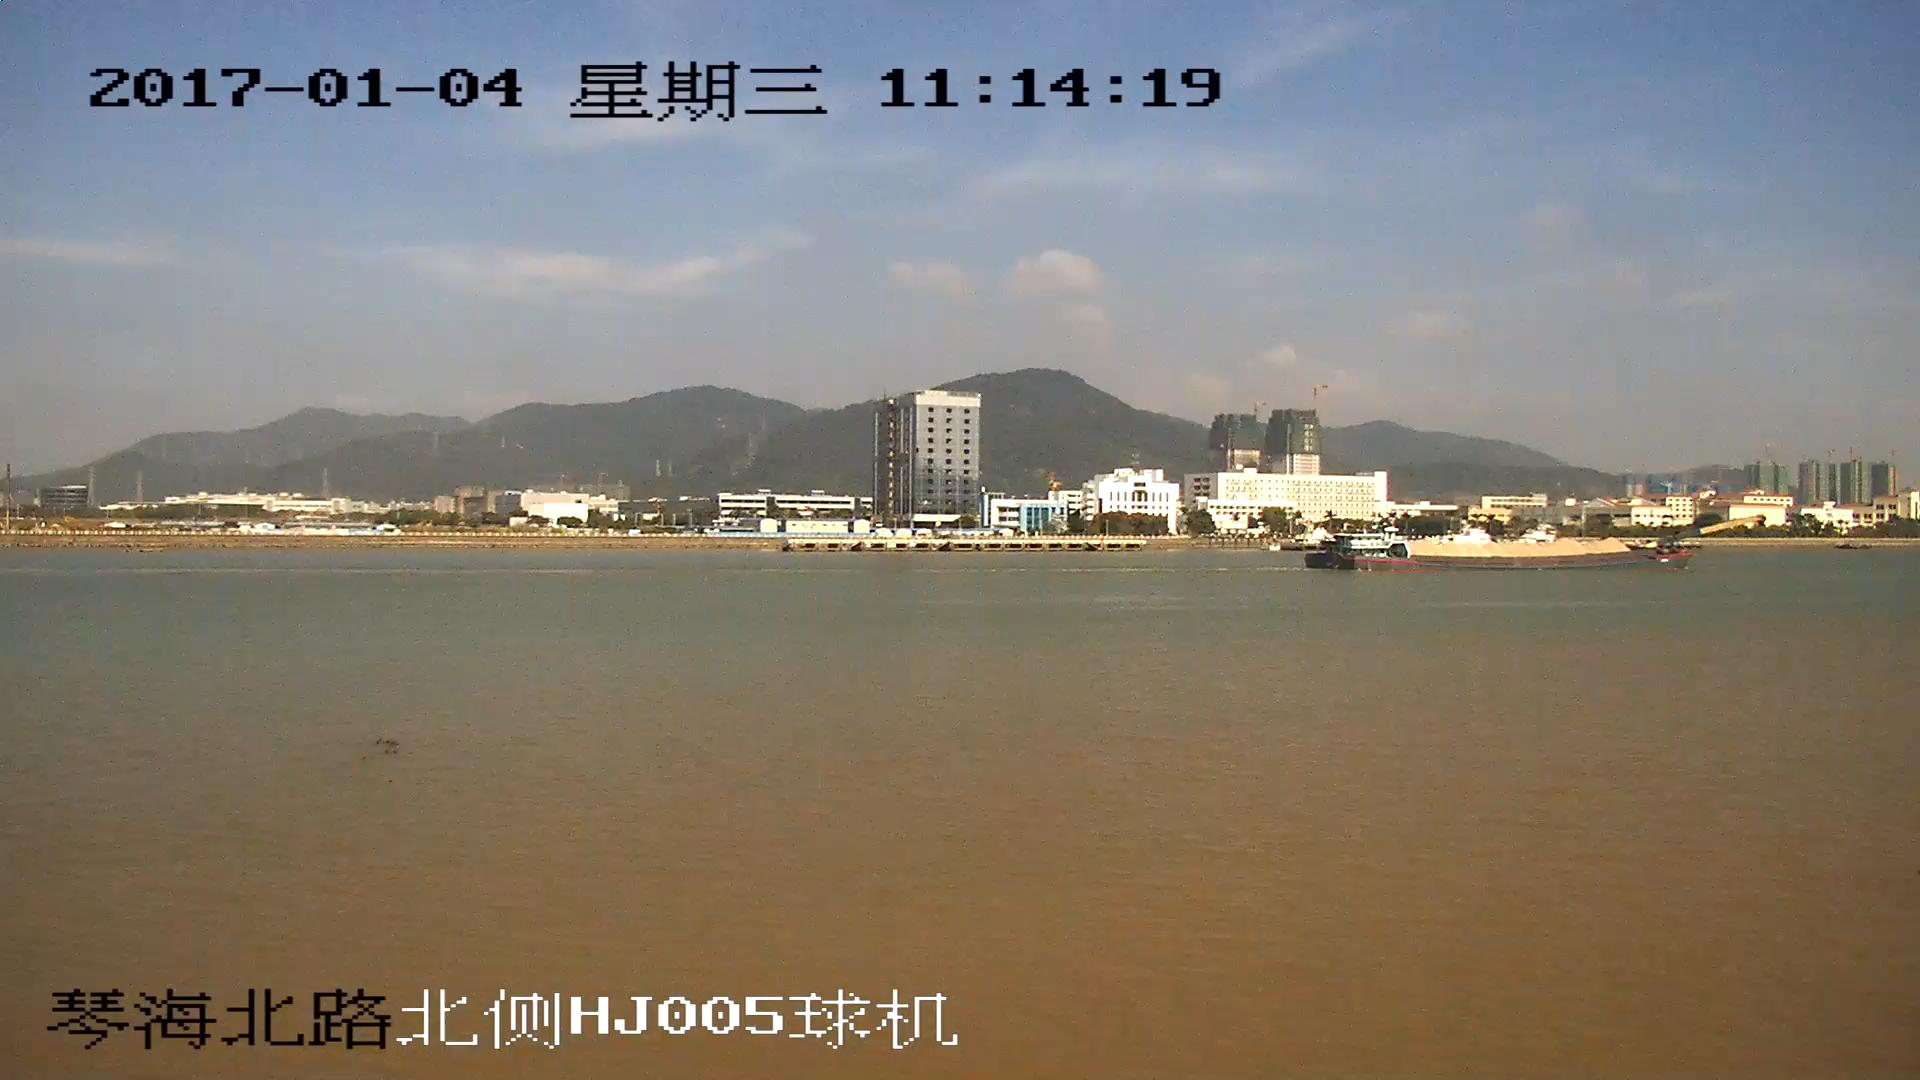ore carrier: (1309, 518, 1758, 574)
